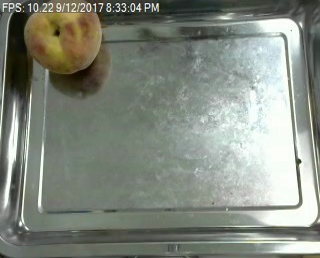Peach: (24, 0, 103, 74)
